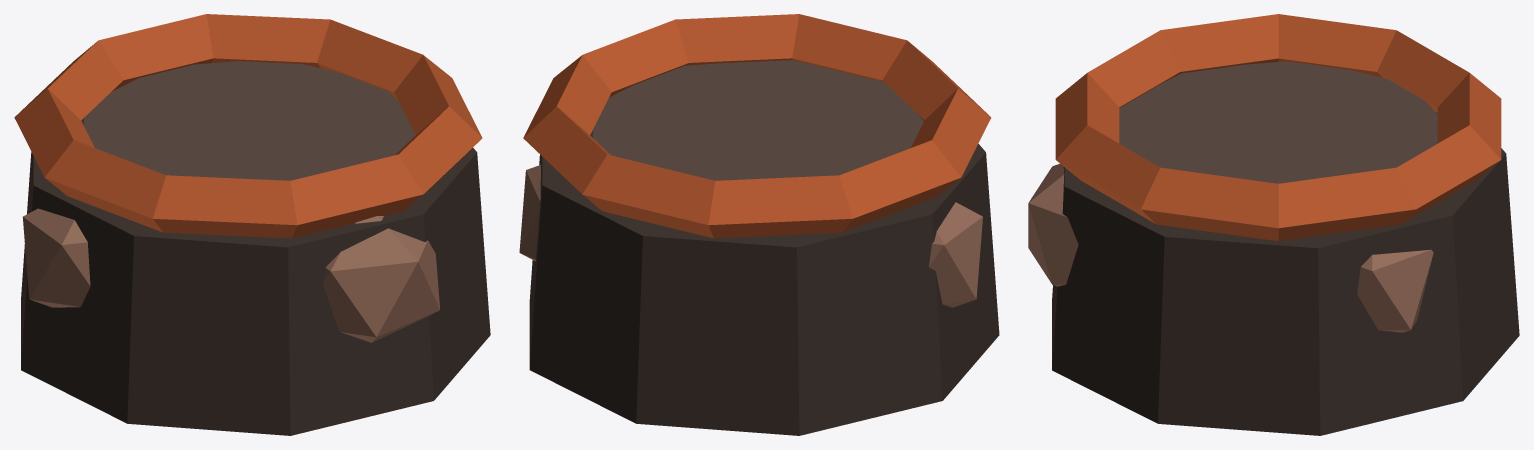
Rendered from tree_jungle.glb.
3 renders of one model, left to right at view 1: azimuth 30°, elevation 25°; view 2: azimuth 150°, elevation 25°; view 3: azimuth 270°, elevation 25°, orthographic.
Parts seen in each view (by area): view 1: tree_jungle; view 2: tree_jungle; view 3: tree_jungle.
Part boxes in pixels (left/top/right/bottom): tree_jungle: left=14, top=14, right=490, bottom=435; tree_jungle: left=519, top=14, right=999, bottom=435; tree_jungle: left=1028, top=14, right=1519, bottom=435.
Size of the model in its own units: 0.3654 by 0.195 by 0.3668.
